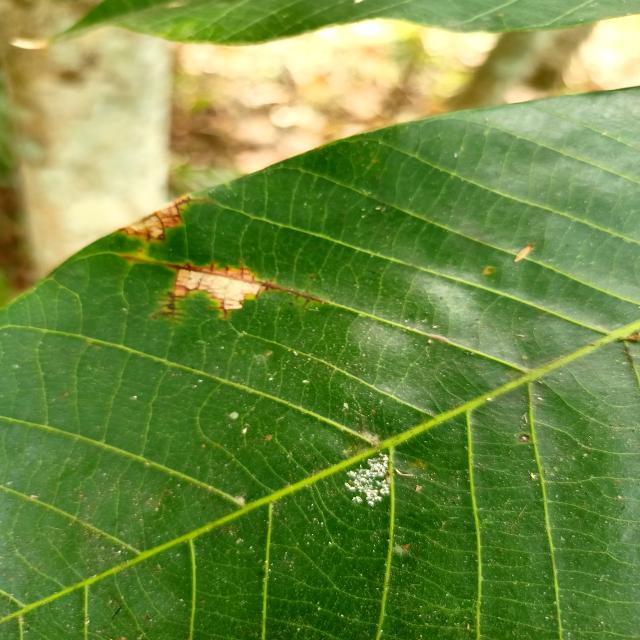Corynespora: (167, 261, 325, 304), (157, 290, 186, 324)
Leaf-Blight: (176, 270, 262, 310), (118, 196, 182, 240)
